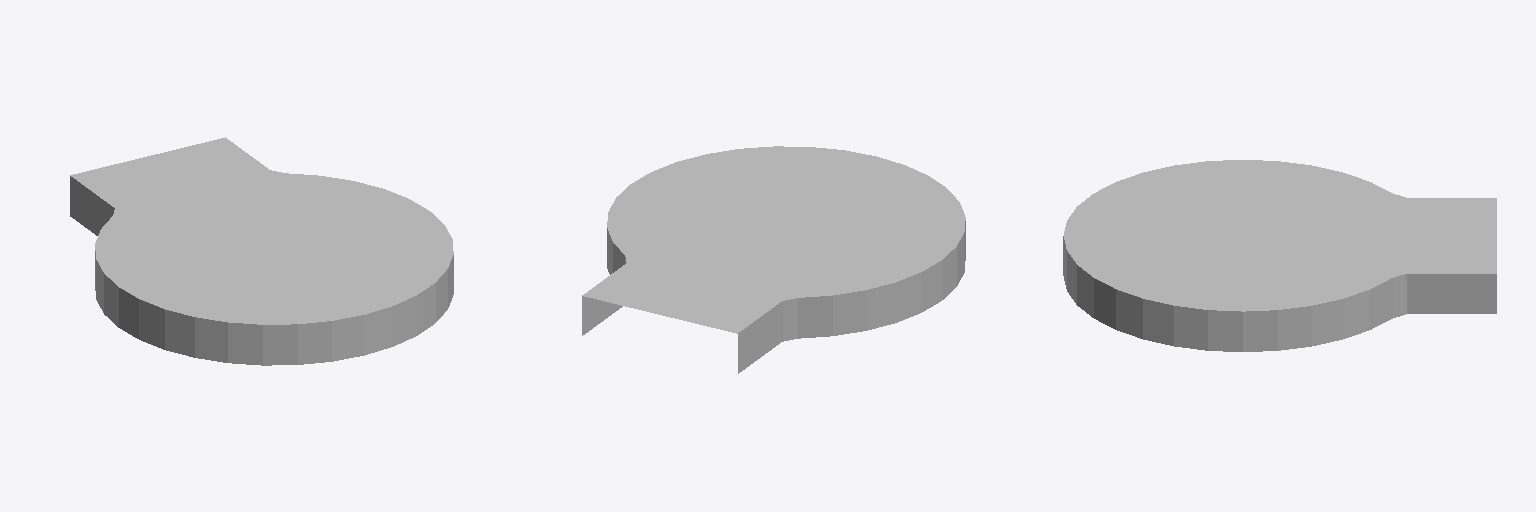
Rendered from intersenction.obj.
3 renders of one model, left to right at view 1: azimuth 30°, elevation 25°; view 2: azimuth 150°, elevation 25°; view 3: azimuth 270°, elevation 25°, orthographic.
Visible parts, largest first — view 1: Cylinder.001; view 2: Cylinder.001; view 3: Cylinder.001.
Part boxes in pixels (bbox=[...]): Cylinder.001: bbox=[70, 137, 453, 365]; Cylinder.001: bbox=[582, 146, 965, 373]; Cylinder.001: bbox=[1063, 160, 1496, 351].
Size of the model in its own units: 8 by 1 by 9.64.